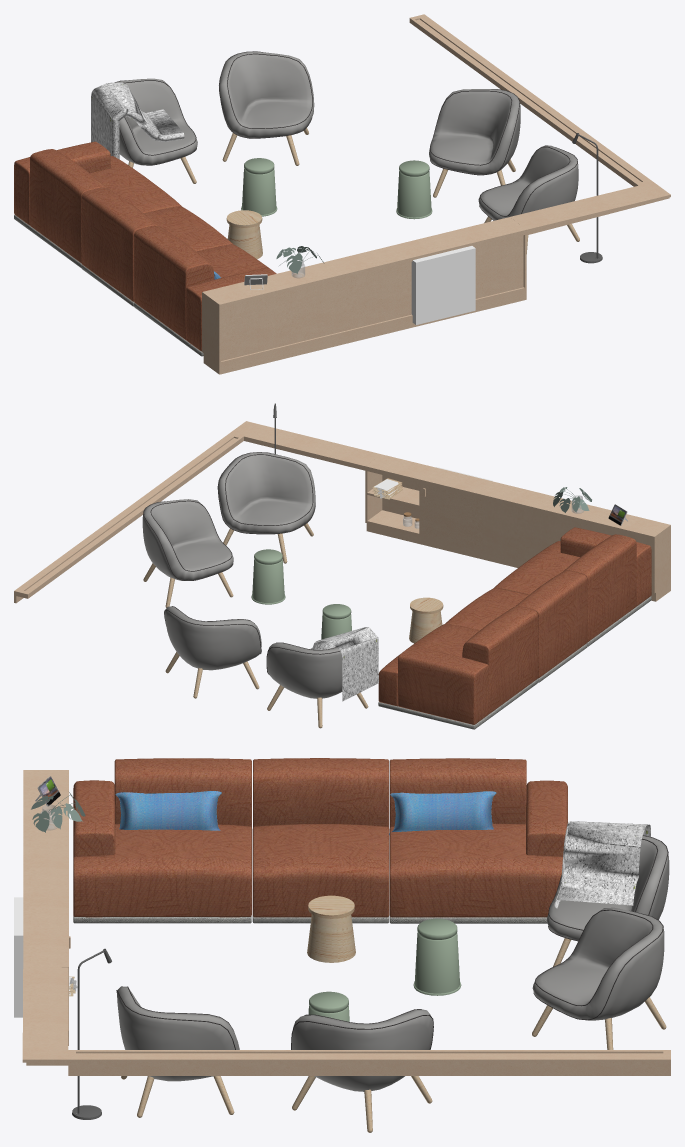
The model's file is break-room(static)_ver-8.glb.
3 renders of one model, top to bottom at view 1: azimuth 30°, elevation 25°; view 2: azimuth 150°, elevation 25°; view 3: azimuth 270°, elevation 25°, orthographic. The views are drawn at different scales.
Visible parts, largest first — view 1: desk, sofa, chair.002, chair.001, chair, chair.003, shelf, block, pouffe.002, pouffe.001, pouffe, Mesh87 Group80 Group79 Group15 Williams_Credenza___880_3_1 G (+1 smaller); view 2: sofa, desk, chair.003, chair.001, chair, chair.002, shelf, small_door, pouffe.002, pouffe, pouffe.001, Mesh87 Group80 Group79 Group15 Williams_Credenza___880_3_1 G; view 3: sofa, shelf, desk, chair.002, chair.001, chair, chair.003, pillow, pillow.001, pouffe.001, pouffe, block (+3 smaller).
Part boxes in pixels (box(x1,y1,x2,y2)): desk: box(202, 182, 670, 374); sofa: box(14, 141, 276, 356); chair.002: box(219, 51, 314, 165); chair.001: box(91, 78, 197, 183); chair: box(429, 89, 520, 197); chair.003: box(478, 145, 579, 253); shelf: box(409, 14, 652, 186); block: box(411, 246, 475, 324); pouffe.002: box(396, 160, 432, 219); pouffe.001: box(241, 158, 277, 216); pouffe: box(226, 210, 262, 259); Mesh87 Group80 Group79 Group15 Williams_Credenza___880_3_1 G: box(276, 246, 324, 277); sofa: box(378, 527, 651, 729); desk: box(230, 421, 670, 601); chair.003: box(217, 452, 315, 563); chair.001: box(266, 627, 378, 728); chair: box(142, 499, 233, 607); chair.002: box(164, 606, 261, 698); shelf: box(14, 433, 243, 603); small_door: box(421, 484, 483, 549); pouffe.002: box(251, 549, 285, 604); pouffe: box(409, 597, 443, 643); pouffe.001: box(321, 604, 351, 639); Mesh87 Group80 Group79 Group15 Williams_Credenza___880_3_1 G: box(553, 487, 591, 513); sofa: box(73, 758, 567, 923); shelf: box(68, 1050, 670, 1075); desk: box(22, 770, 68, 1065); chair.002: box(532, 907, 666, 1049); chair.001: box(547, 821, 669, 966); chair: box(291, 1009, 433, 1132); chair.003: box(116, 986, 239, 1117); pillow: box(389, 791, 496, 834); pillow.001: box(115, 791, 221, 830); pouffe.001: box(413, 918, 461, 995); pouffe: box(307, 895, 355, 962); block: box(14, 897, 23, 1017).
Bounding box in the file's own units: 182 × 47.6 × 174.
21 materials, 10 textured.
